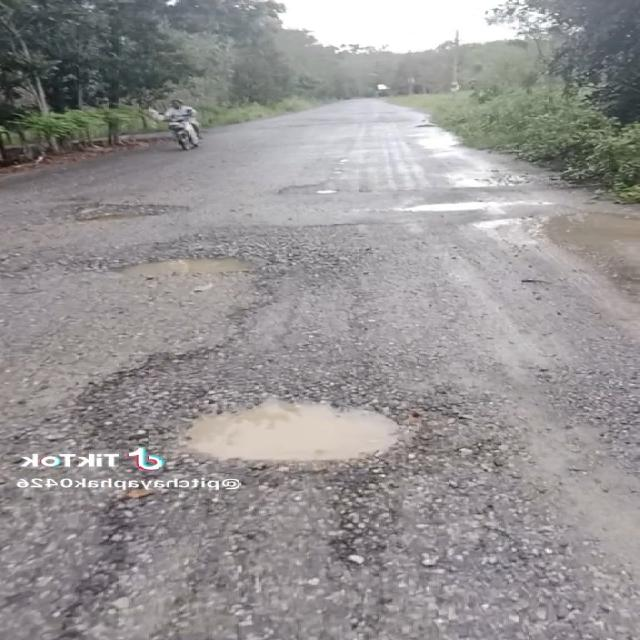Poth-hole: (97, 344, 594, 522)
